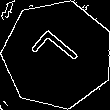L_SE: (28, 26, 87, 83)
